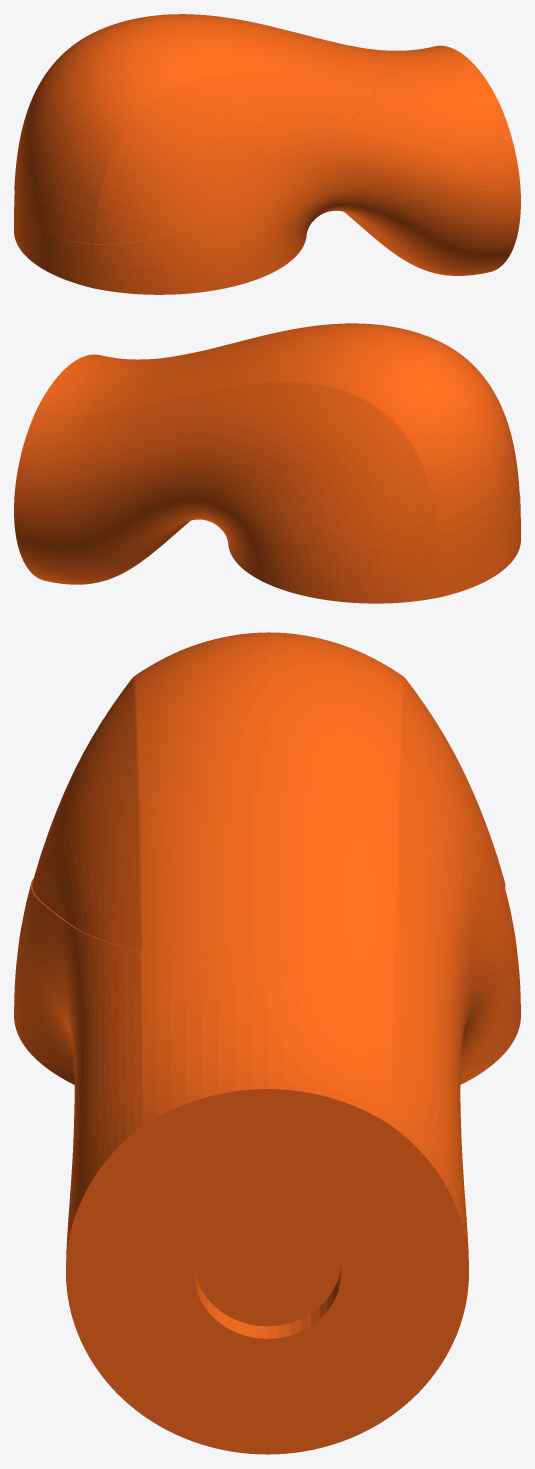
The model's file is iiwa_link_2.dae.
3 views of the same model, one above another, from view 1: azimuth 30°, elevation 25°; view 2: azimuth 150°, elevation 25°; view 3: azimuth 270°, elevation 25° (orthographic). The views are drawn at different scales.
Parts seen in each view (by area): view 1: Iiwa Link 2; view 2: Iiwa Link 2; view 3: Iiwa Link 2.
Part boxes in pixels (<box>): Iiwa Link 2: <box>14,14,520,294</box>; Iiwa Link 2: <box>14,323,520,603</box>; Iiwa Link 2: <box>14,632,520,1454</box>.
Size of the model in its own units: 0.29 by 0.171 by 0.2002.
